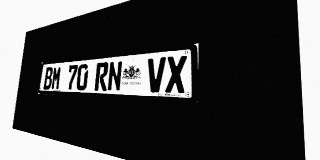0: (76, 64, 89, 90)
7: (66, 65, 78, 90)
B: (43, 67, 53, 90)
M: (51, 66, 62, 90)
N: (107, 61, 123, 91)
R: (94, 62, 109, 91)
V: (146, 57, 166, 93)
X: (165, 55, 187, 93)
